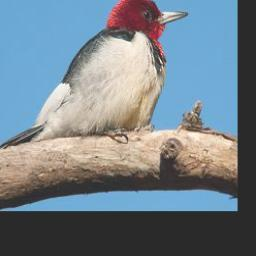Woodpecker: (0, 0, 189, 148)
